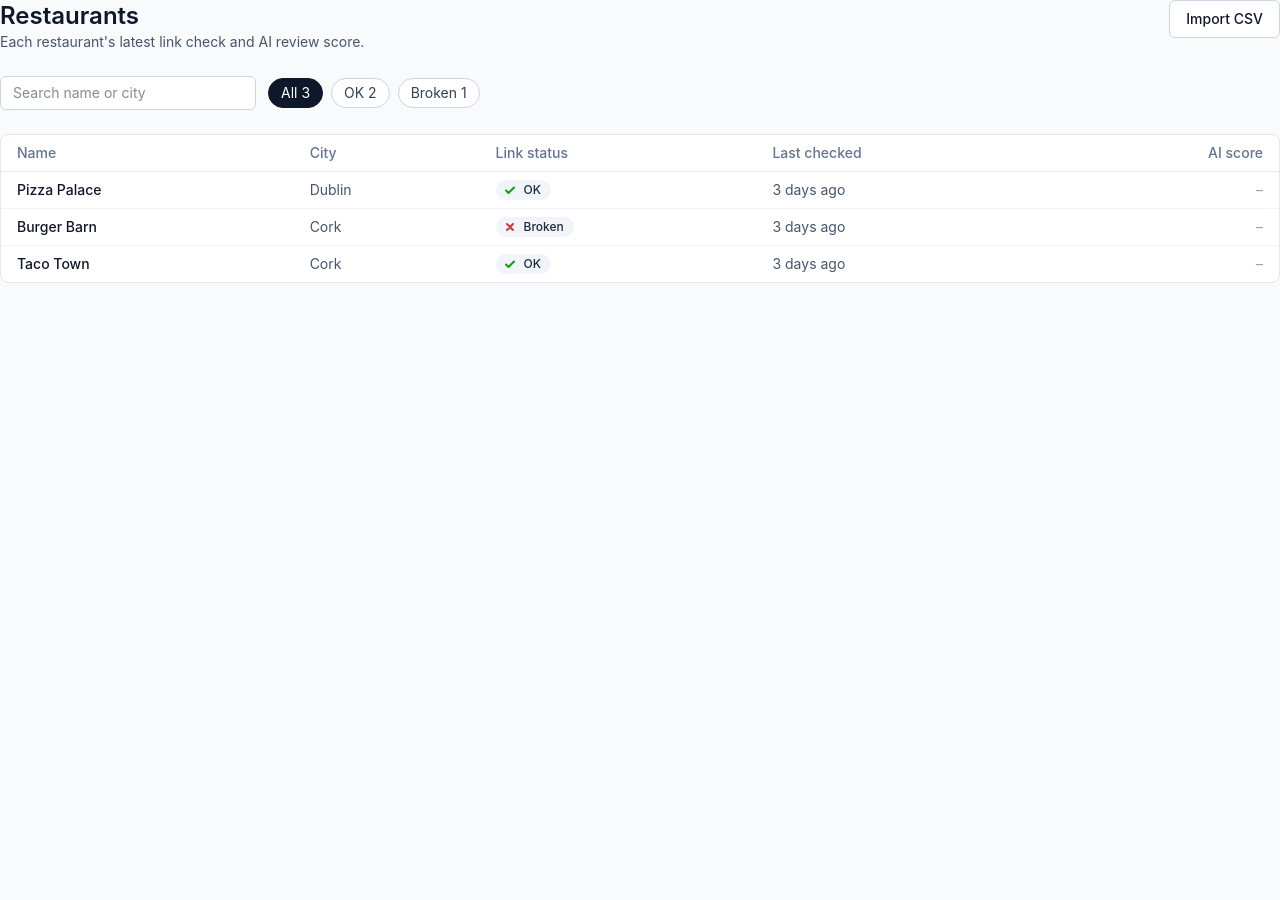
Scenario: RestaurantsPage › opens the detail panel and runs an AI review with the admin token
Click the button "Burger Barn": (57, 227) [17, 217, 97, 237]
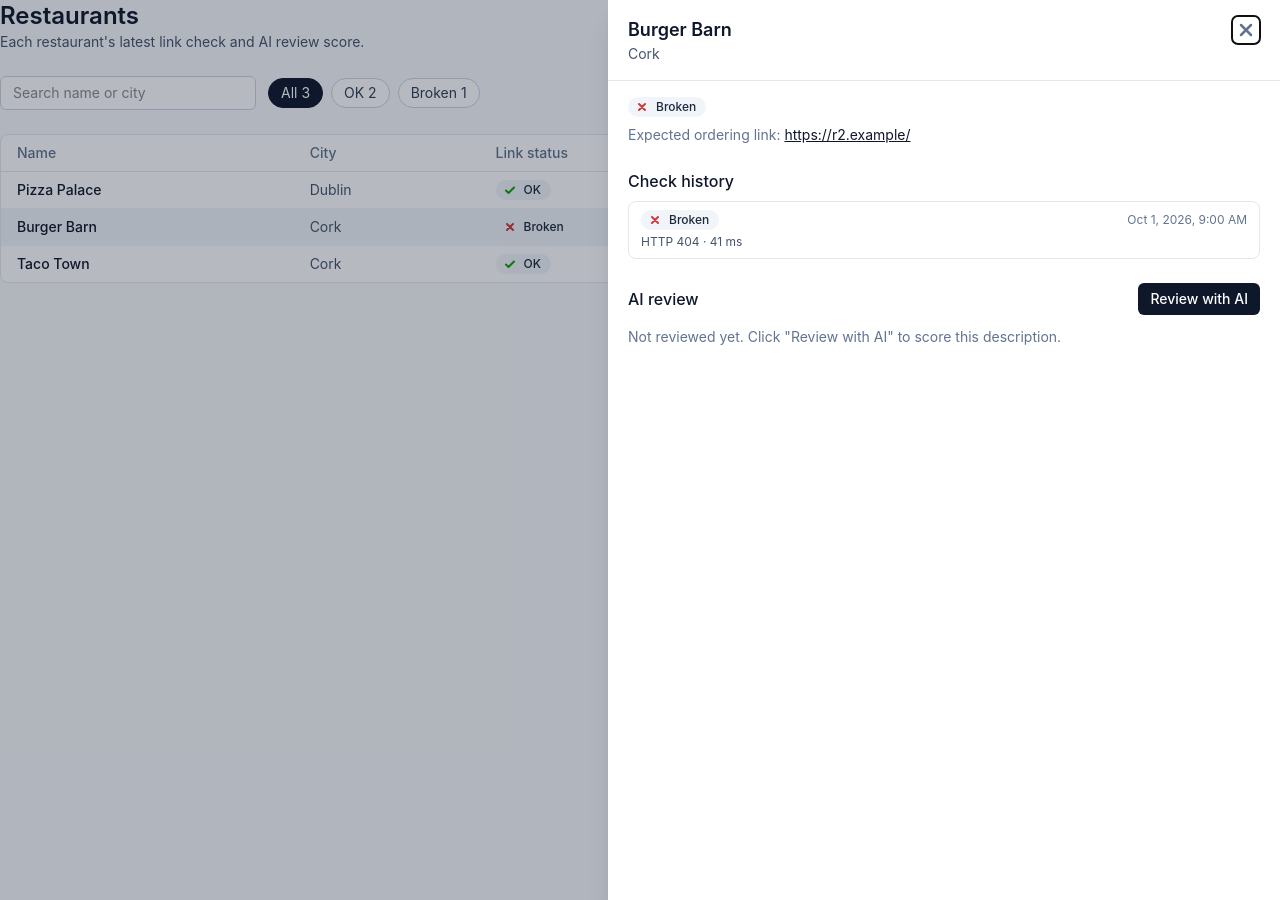
Now the text "HTTP 404 · 41 ms" is shown, box [641, 234, 742, 249]
Now the text "Not reviewed yet" is shown, box [628, 328, 1061, 345]
Click the button "Review with AI": (1199, 299) [1138, 283, 1260, 315]
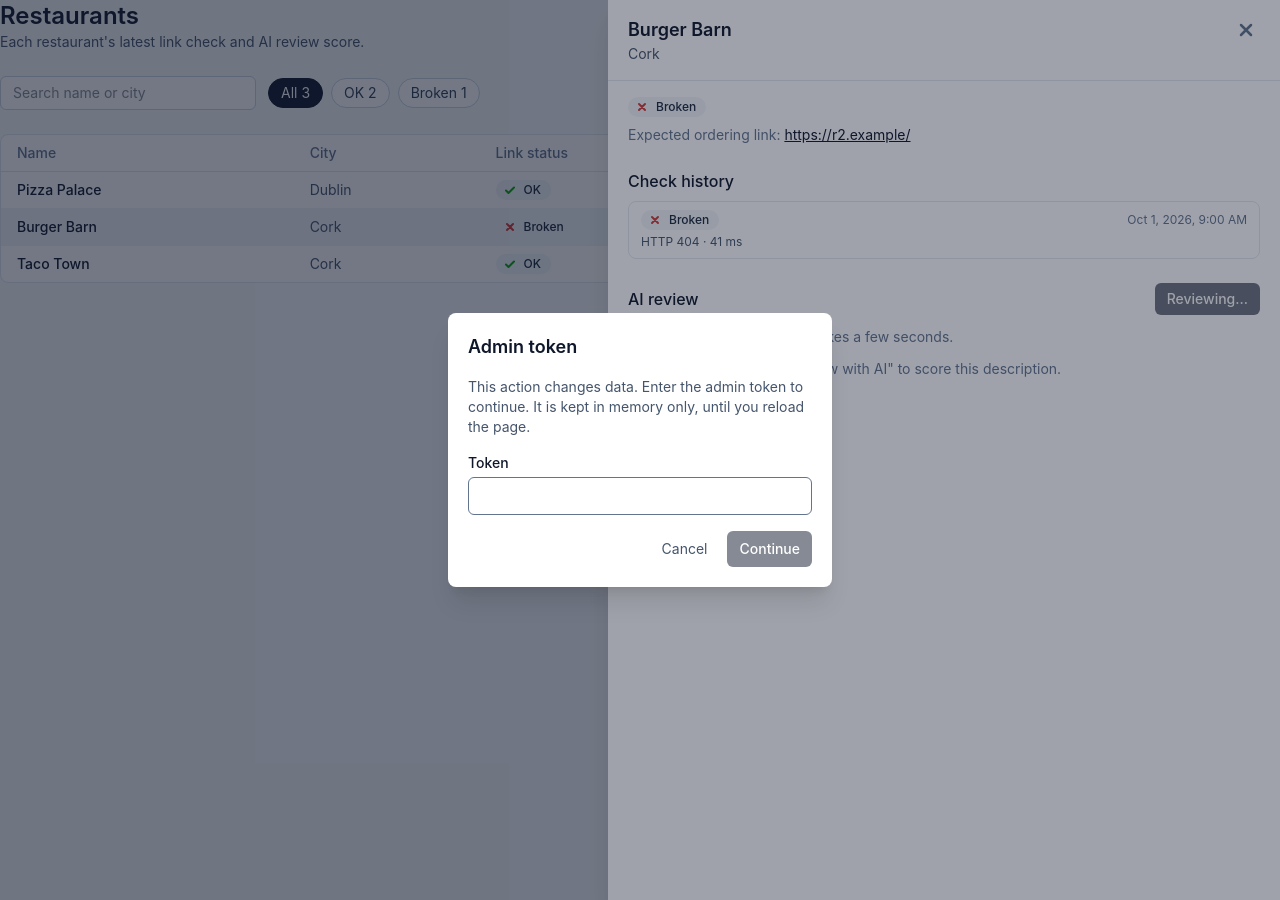
In the password field labelled "Token": (640, 496) [468, 477, 812, 515], type "secret"
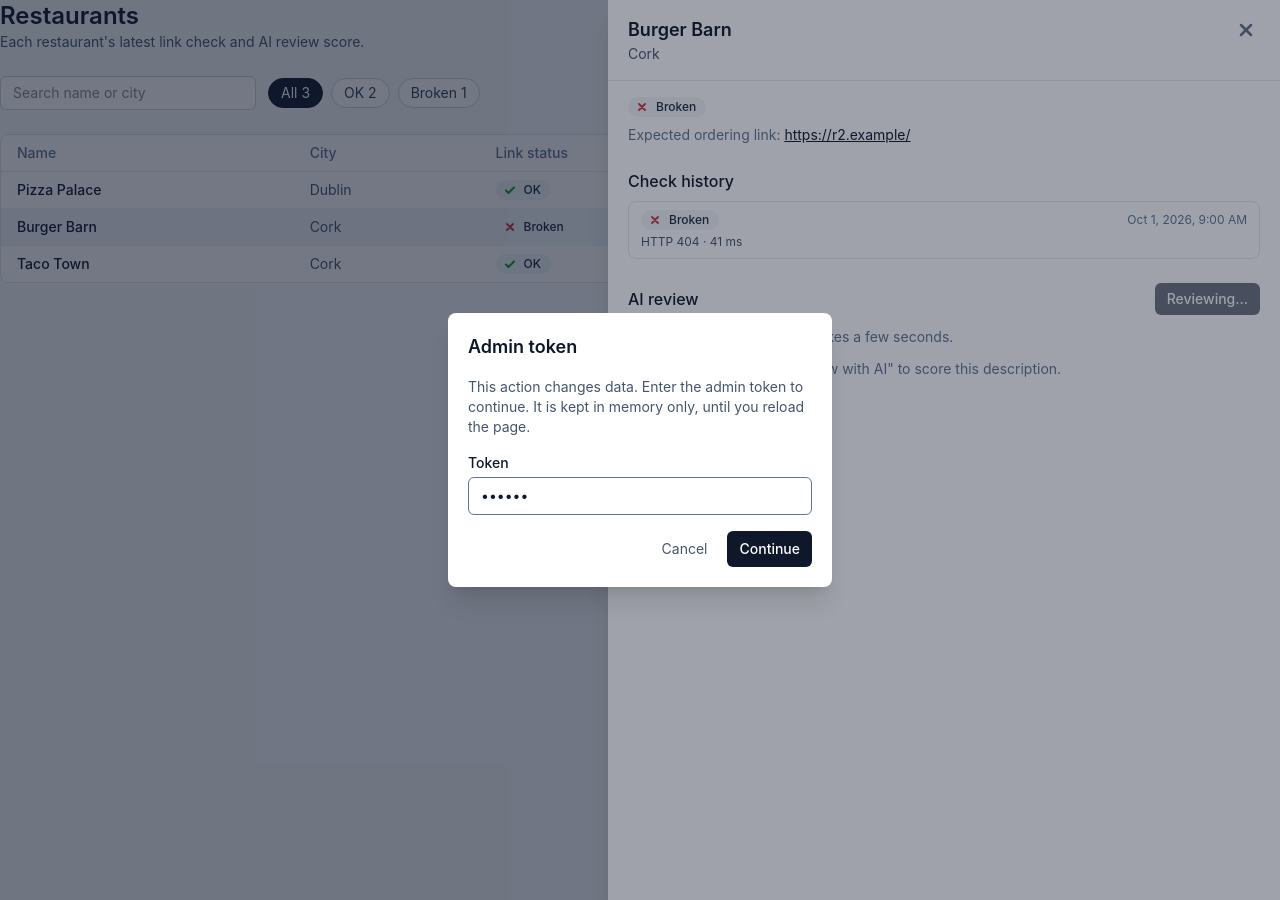
Click the button "Continue": (770, 549) [728, 531, 812, 567]
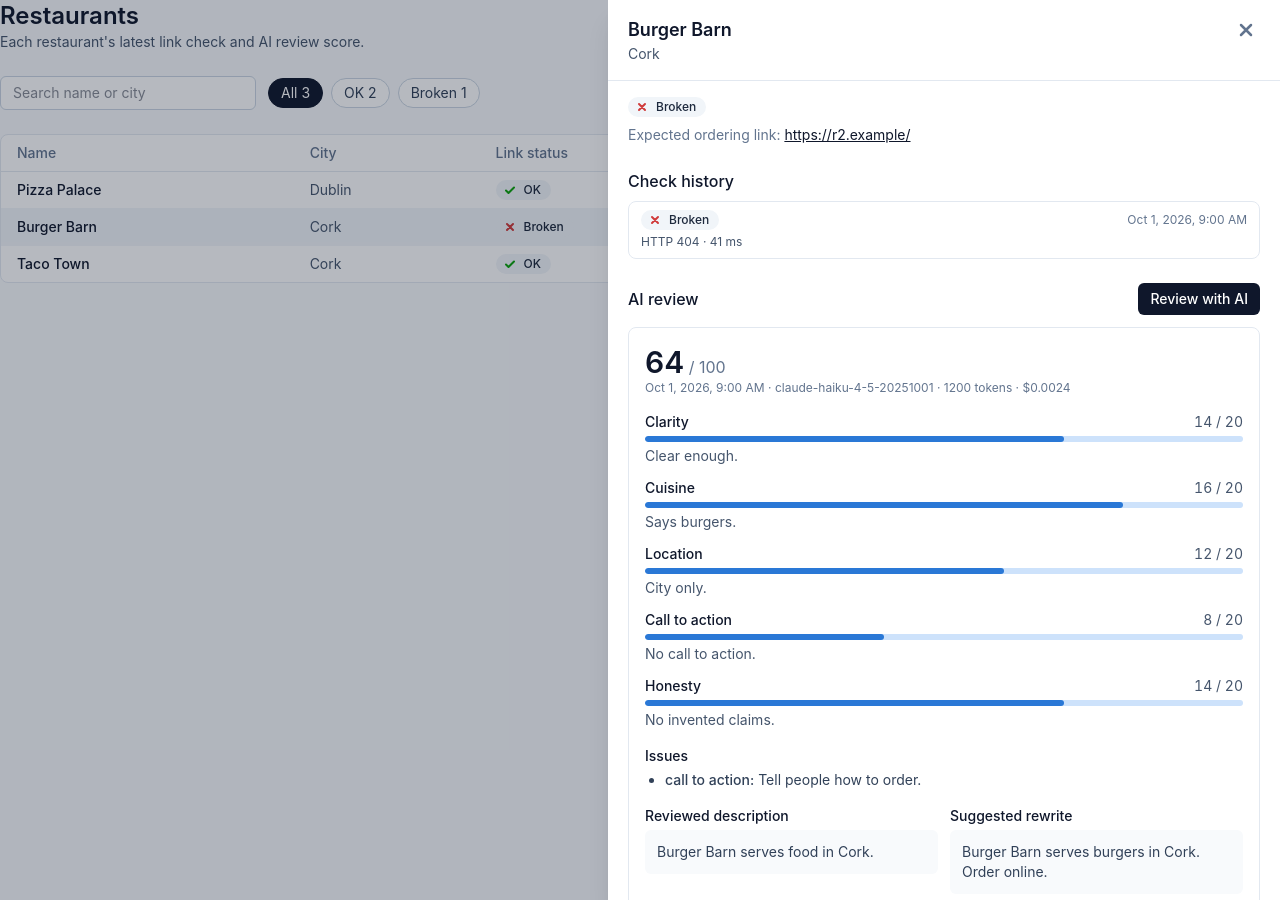
Now the text "Burger Barn serves burgers in Cork. Order online." is shown, box [950, 830, 1243, 894]
Now the text "64" is shown, box [645, 344, 684, 380]
Press Escape
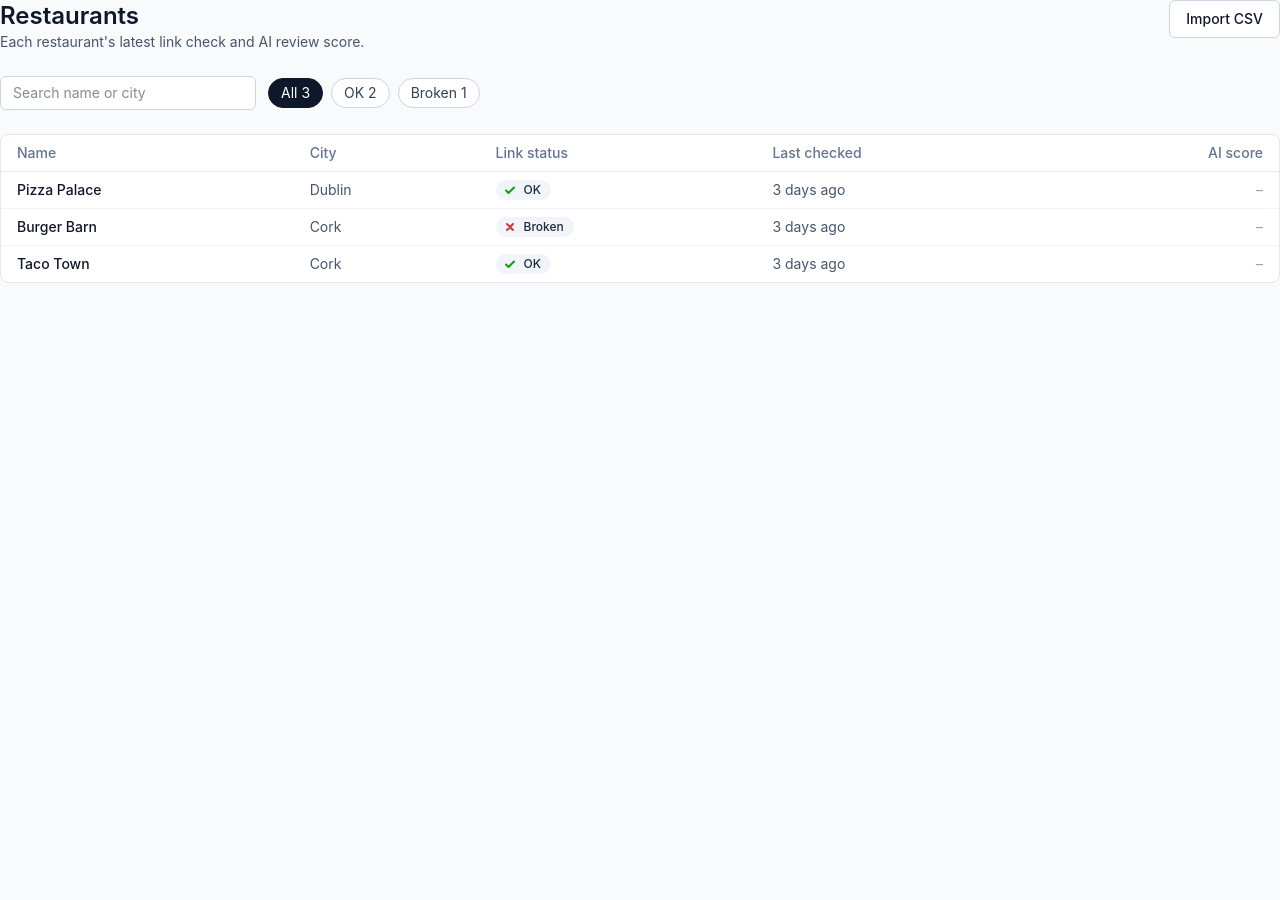
Now the dialog is gone
